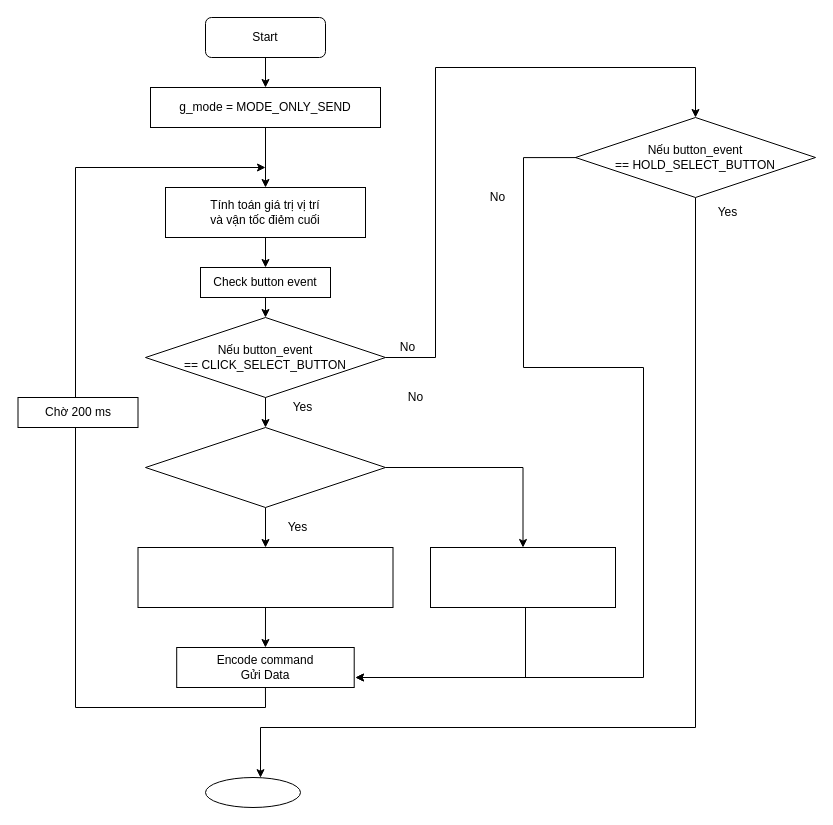
This 833x825 diagram has some shape labels left out. Each missing label, with the centre of its shape:
"End" goes at (x=252, y=792).
"g_mode = MODE_ONLY_SEND cmd = ONLY_POS_TRANSMIT" goes at (x=523, y=577).
"g_mode = MODE_RECORD cmd = TRANSMIT_AND_START_RECORD" goes at (x=265, y=577).
"Nếu g_mode == MODE_ONLY_SEND" goes at (x=265, y=467).
